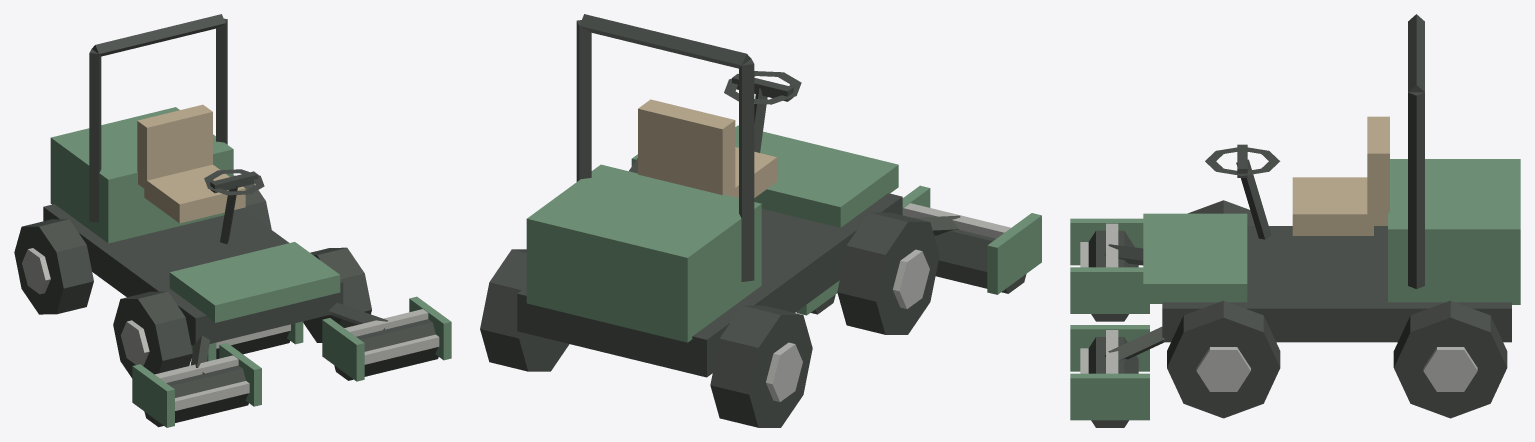
The model's file is fairway_mower_02.glb.
3 renders of one model, left to right at view 1: azimuth 30°, elevation 25°; view 2: azimuth 150°, elevation 25°; view 3: azimuth 270°, elevation 25°, orthographic. The views are drawn at different scales.
Visible parts, largest first — view 1: Fairway_mower_02; view 2: Fairway_mower_02; view 3: Fairway_mower_02.
Part boxes in pixels (left/top/right/bottom): Fairway_mower_02: left=14, top=14, right=451, bottom=427; Fairway_mower_02: left=480, top=14, right=1041, bottom=427; Fairway_mower_02: left=1070, top=14, right=1520, bottom=427.
Bounding box in the file's own units: 2.07 × 1.87 × 2.46.
